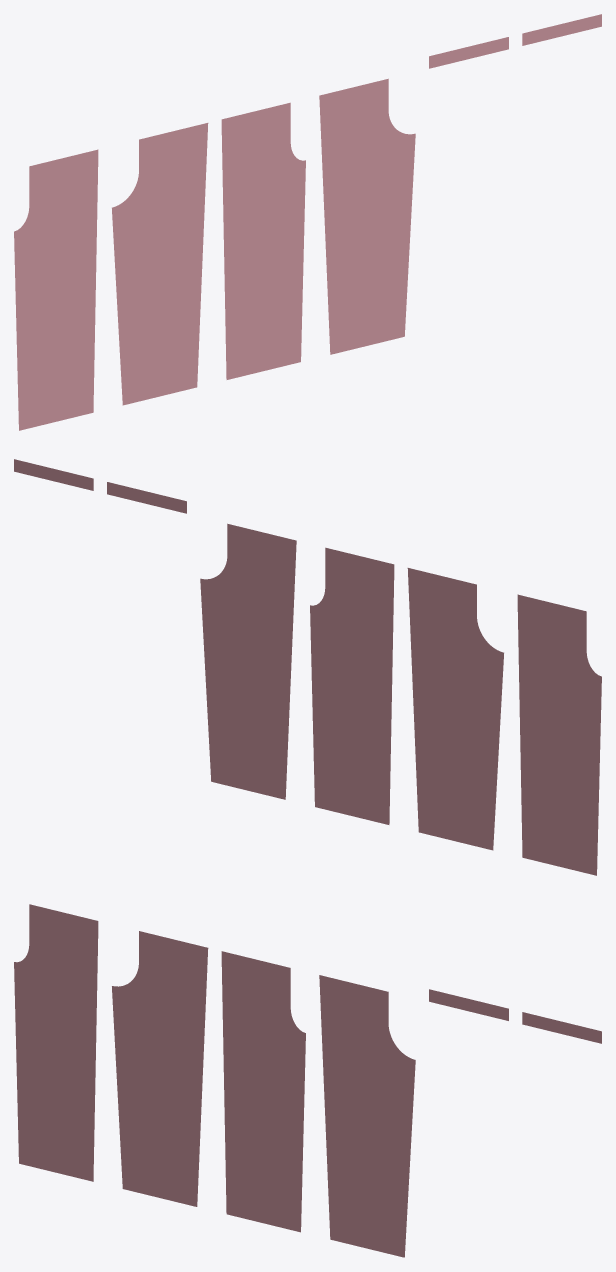
The model's file is pantalon-sudadera-pierna-ancha-talla-XS.glb.
3 renders of one model, top to bottom at view 1: azimuth 30°, elevation 25°; view 2: azimuth 150°, elevation 25°; view 3: azimuth 330°, elevation 25°, orthographic.
Parts seen in each view (by area): view 1: patron-espalda-der, patron-espalda-izq, patron-delantero-izq, patron-delantero-der, patron-pretina-delantera, patron-pretina-trasera; view 2: patron-espalda-der, patron-espalda-izq, patron-delantero-izq, patron-delantero-der, patron-pretina-delantera, patron-pretina-trasera; view 3: patron-espalda-der, patron-espalda-izq, patron-delantero-izq, patron-delantero-der, patron-pretina-delantera, patron-pretina-trasera.
Boxes of the visible parts, left/top/right/bottom form: patron-espalda-der: left=319, top=78, right=415, bottom=354; patron-espalda-izq: left=112, top=123, right=208, bottom=405; patron-delantero-izq: left=14, top=149, right=98, bottom=430; patron-delantero-der: left=221, top=102, right=305, bottom=379; patron-pretina-delantera: left=429, top=37, right=508, bottom=68; patron-pretina-trasera: left=522, top=14, right=601, bottom=45; patron-espalda-der: left=200, top=523, right=296, bottom=799; patron-espalda-izq: left=407, top=568, right=503, bottom=850; patron-delantero-izq: left=517, top=594, right=601, bottom=875; patron-delantero-der: left=310, top=547, right=394, bottom=824; patron-pretina-delantera: left=107, top=482, right=186, bottom=513; patron-pretina-trasera: left=14, top=459, right=93, bottom=490; patron-espalda-der: left=319, top=975, right=415, bottom=1257; patron-espalda-izq: left=112, top=931, right=208, bottom=1206; patron-delantero-izq: left=14, top=904, right=98, bottom=1181; patron-delantero-der: left=221, top=951, right=305, bottom=1232; patron-pretina-delantera: left=429, top=989, right=508, bottom=1020; patron-pretina-trasera: left=522, top=1012, right=601, bottom=1043.
Bounding box in the file's own units: 2.21 × 0.986 × 0.
